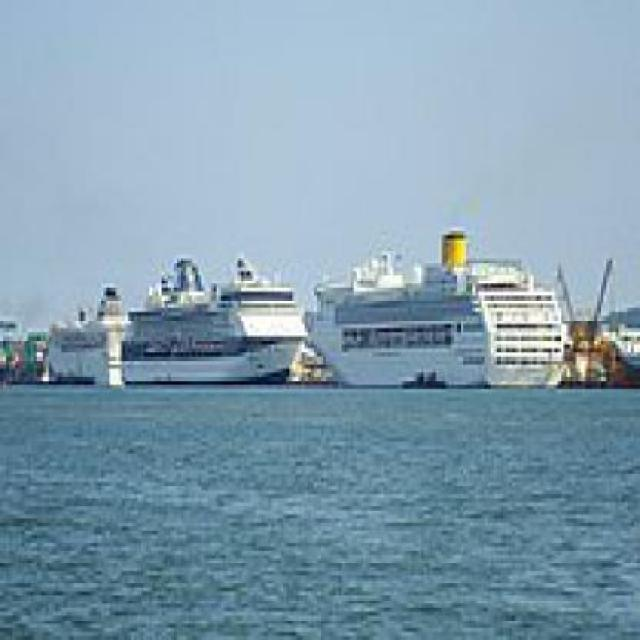cruise: (300, 224, 583, 407), (110, 240, 315, 391)
